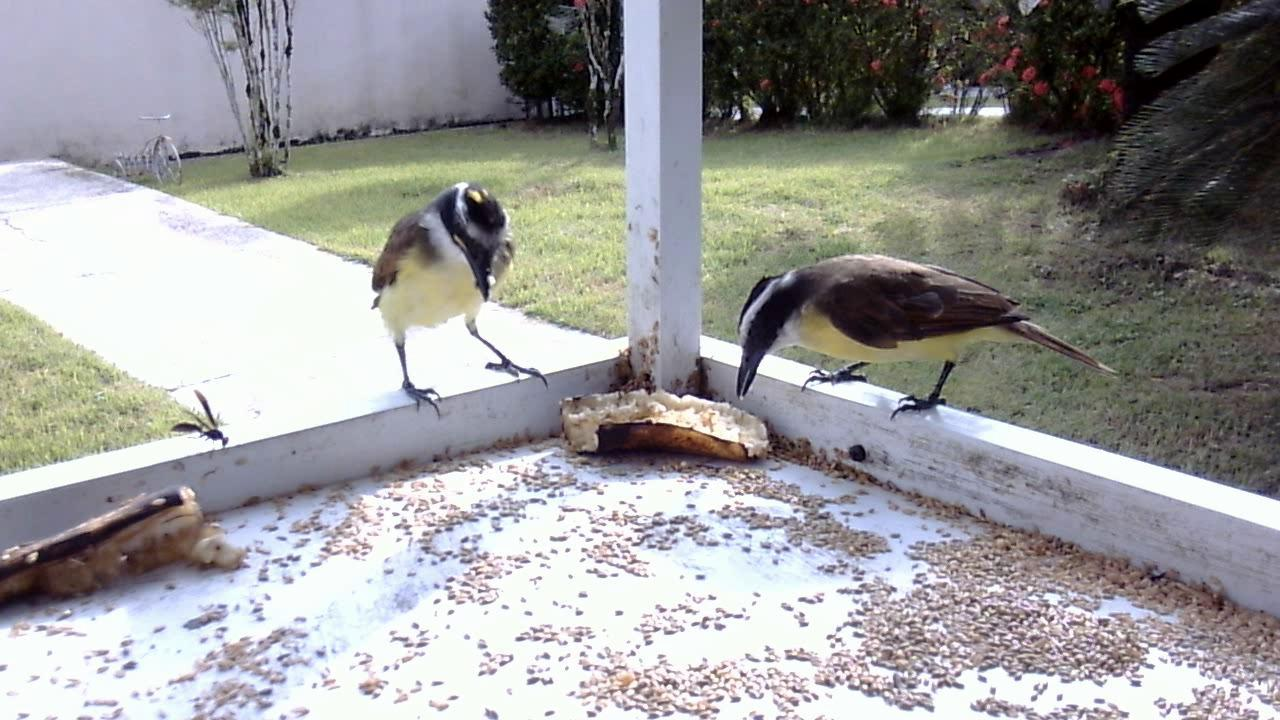bem_te_vi: (728, 245, 1119, 439), (354, 173, 546, 430)
